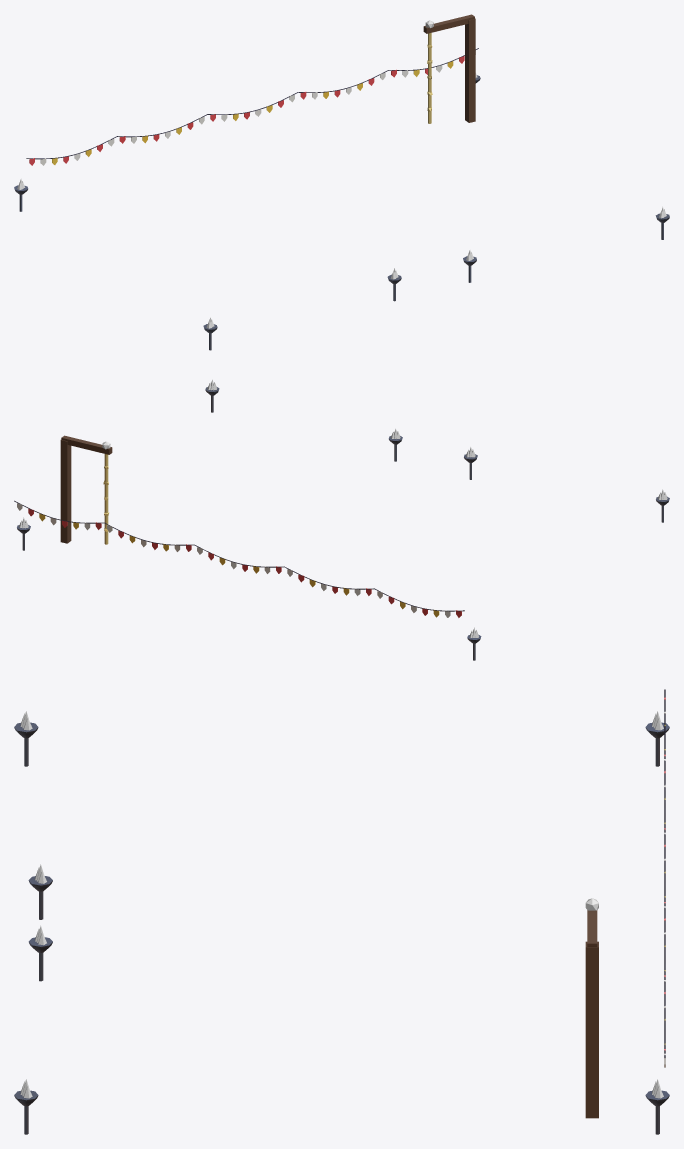
The model's file is area_gym_5_5.fbx.
3 views of the same model, one above another, from view 1: azimuth 30°, elevation 25°; view 2: azimuth 150°, elevation 25°; view 3: azimuth 270°, elevation 25° (orthographic). The views are drawn at different scales.
Visible parts, largest first — view 1: area_gym_5_5_body; view 2: area_gym_5_5_body, area_gym_5_5_body_glow; view 3: area_gym_5_5_body, area_gym_5_5_body_glow.
Boxes of the visible parts, box(x1,y1,x2,y2) form: area_gym_5_5_body: box(14, 14, 669, 350); area_gym_5_5_body: box(14, 387, 669, 660); area_gym_5_5_body_glow: box(18, 379, 667, 637); area_gym_5_5_body: box(14, 689, 669, 1134); area_gym_5_5_body_glow: box(20, 711, 663, 1098).
Size of the model in its own units: 15466 by 3500 by 11300.
2 materials, 1 textured.
